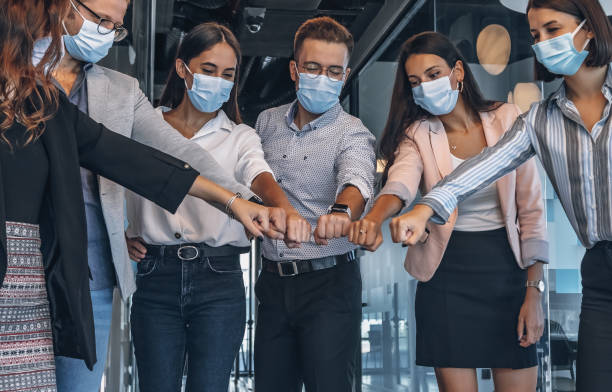with mask: (530, 3, 594, 81), (292, 33, 350, 112), (182, 41, 238, 113), (4, 15, 69, 77), (62, 1, 127, 62), (403, 52, 463, 114)
